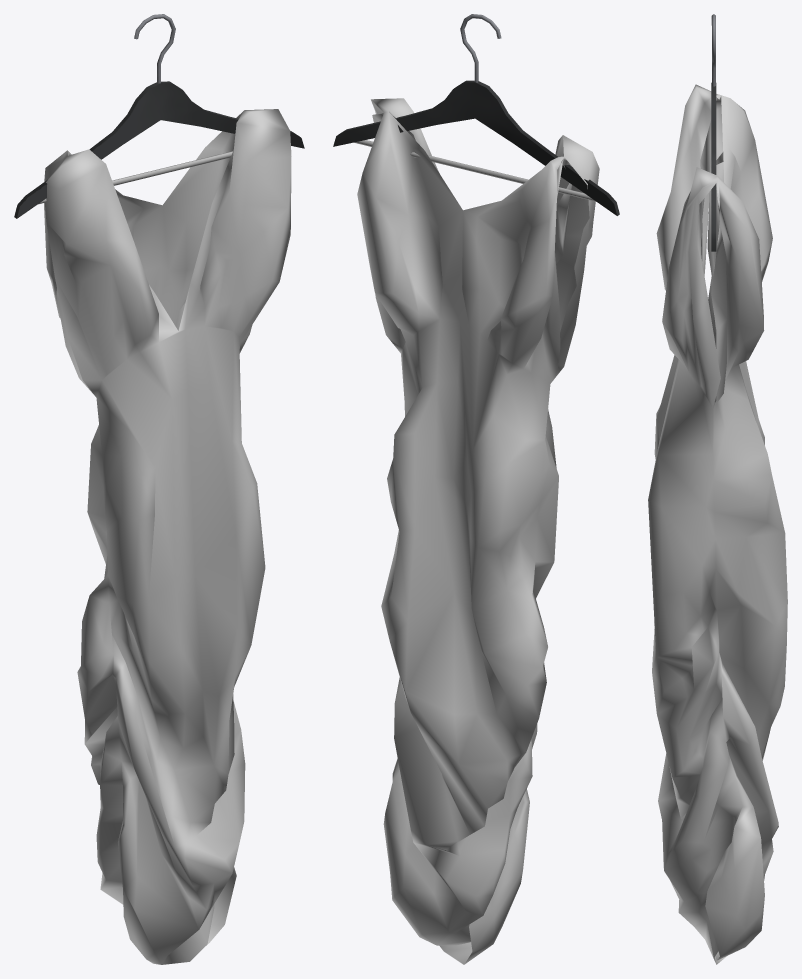
The model's file is dress-2.FBX.
3 renders of one model, left to right at view 1: azimuth 30°, elevation 25°; view 2: azimuth 150°, elevation 25°; view 3: azimuth 270°, elevation 25°, orthographic. The views are drawn at different scales.
Parts seen in each view (by area): view 1: dress-2_LOD0, _Hanger-3_LOD0; view 2: dress-2_LOD0, _Hanger-3_LOD0; view 3: dress-2_LOD0, _Hanger-3_LOD0.
Part boxes in pixels (x1,y1,x2,y2): dress-2_LOD0: (44, 109, 291, 964); _Hanger-3_LOD0: (14, 14, 304, 218); dress-2_LOD0: (357, 98, 599, 964); _Hanger-3_LOD0: (333, 14, 619, 215); dress-2_LOD0: (648, 84, 787, 964); _Hanger-3_LOD0: (711, 14, 716, 251).
Size of what is drawn, in the model's own units: 32.72 by 14.14 by 104.
